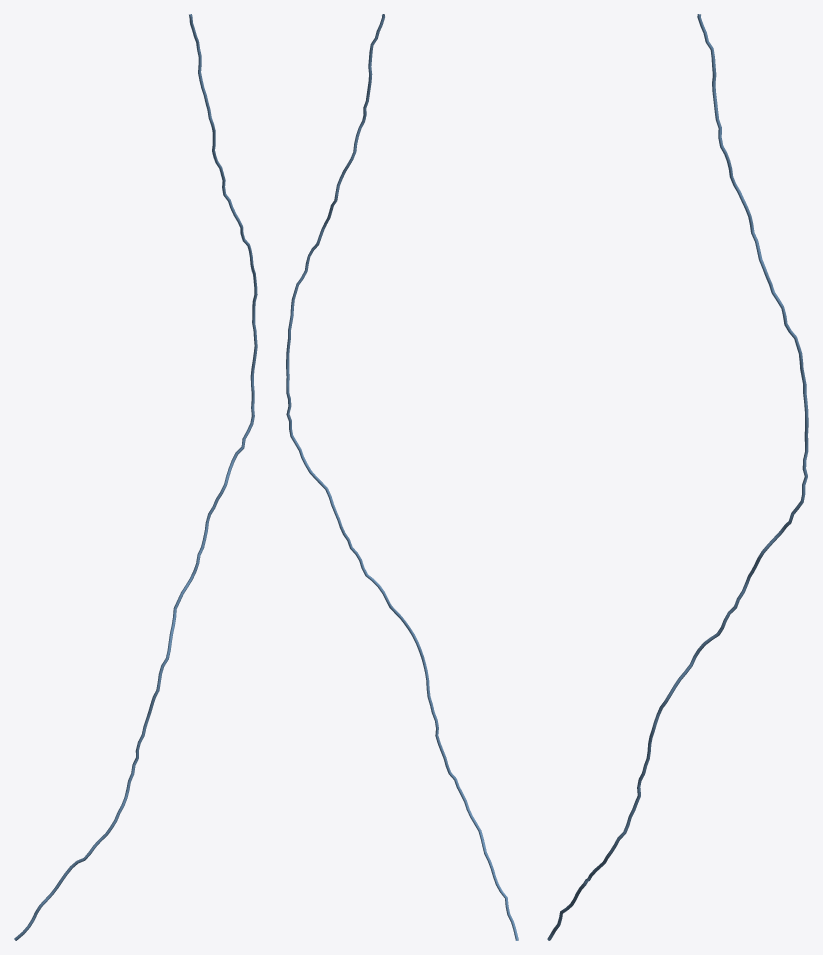
File: sweep91.fbx
3 renders of one model, left to right at view 1: azimuth 30°, elevation 25°; view 2: azimuth 150°, elevation 25°; view 3: azimuth 330°, elevation 25°, orthographic. The views are drawn at different scales.
Parts seen in each view (by area): view 1: sweep91; view 2: sweep91; view 3: sweep91.
Boxes of the visible parts, x1,y1,x2,y2 form: sweep91: [14, 14, 257, 940]; sweep91: [286, 14, 518, 940]; sweep91: [547, 14, 808, 940].
Bounding box in the file's own units: 1.7 × 6.09 × 0.3064.
